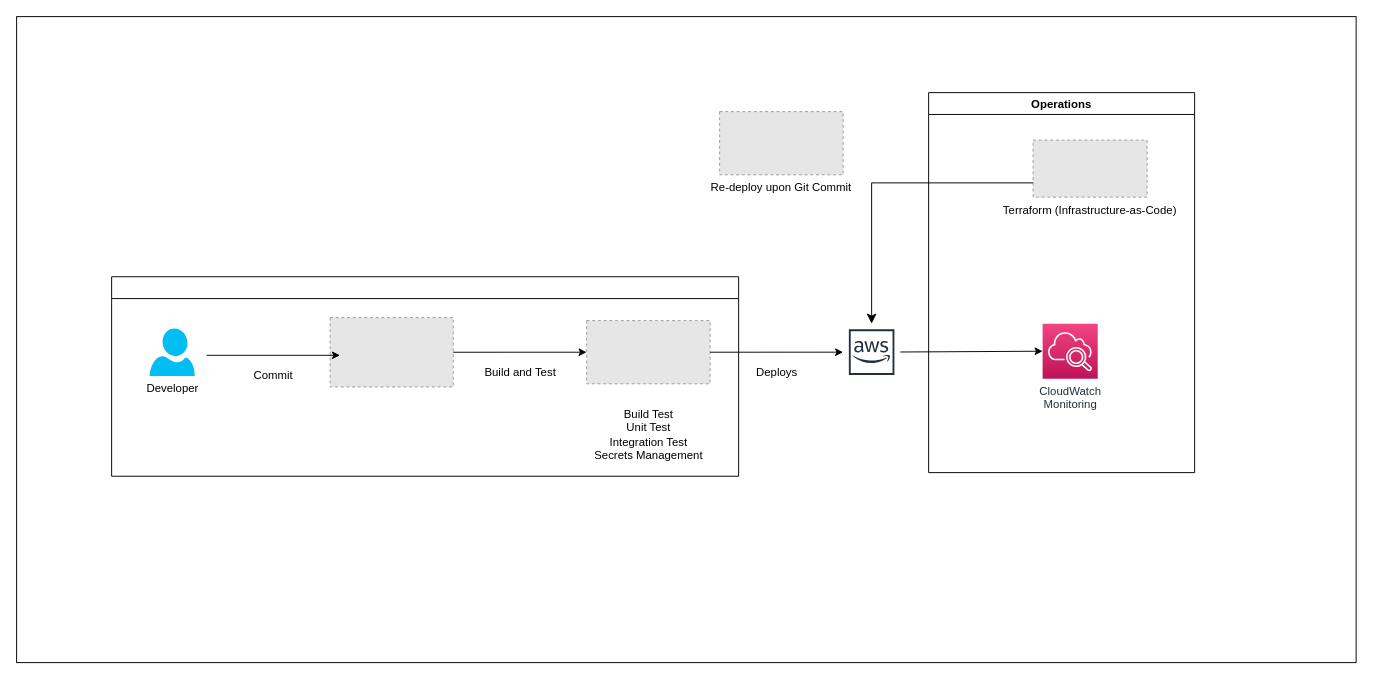
The diagram is 1373 pixels wide and 679 high, and some of its shapes have lost their labels. Grey dashed boxes stand in for pictures. Each missing label, with the centre of its shape:
AWS Cloud: point (871, 352)
Development: point (425, 376)
